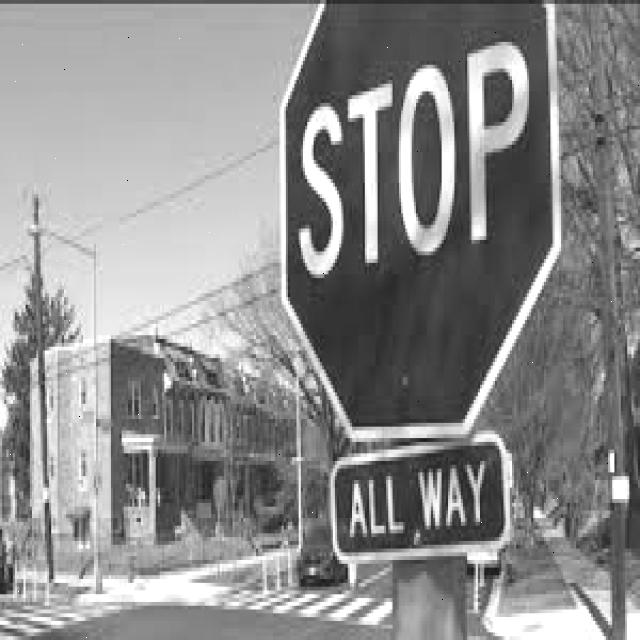stop sign: (275, 0, 561, 557)
